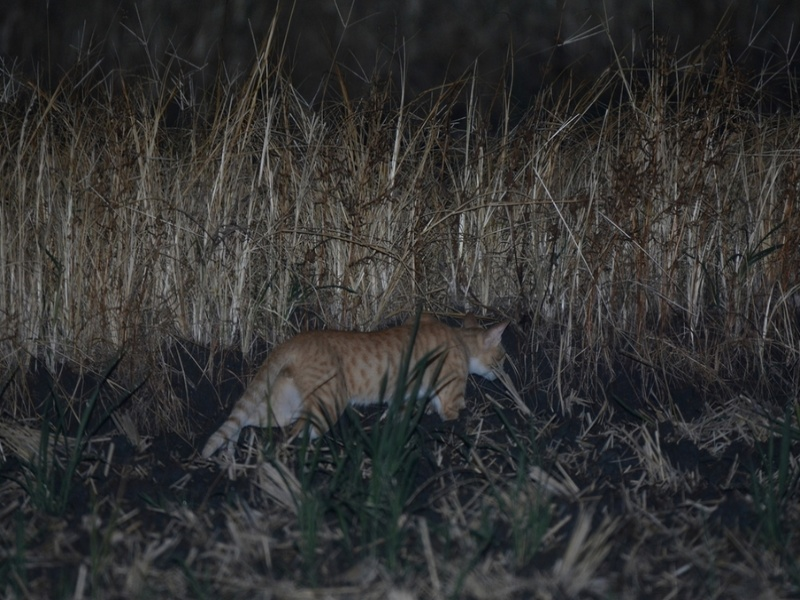cat: (199, 306, 511, 470)
